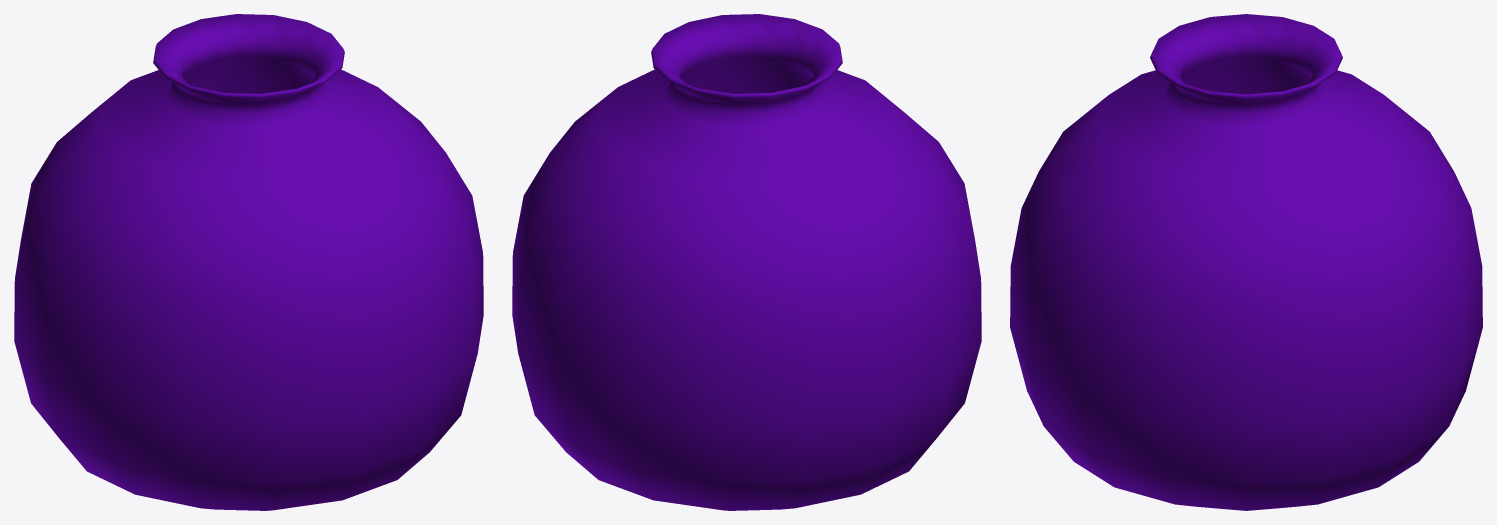
File: Vase_01.fbx
The picture shows the model from 3 angles, left to right: view 1: azimuth 30°, elevation 25°; view 2: azimuth 150°, elevation 25°; view 3: azimuth 270°, elevation 25°; orthographic projection.
Parts seen in each view (by area): view 1: Vase_01; view 2: Vase_01; view 3: Vase_01.
Boxes of the visible parts, x1=… form: Vase_01: x1=14, y1=14, x2=483, y2=510; Vase_01: x1=512, y1=14, x2=981, y2=510; Vase_01: x1=1010, y1=14, x2=1482, y2=510.
Bounding box in the file's own units: 31.86 × 29.84 × 31.86.
